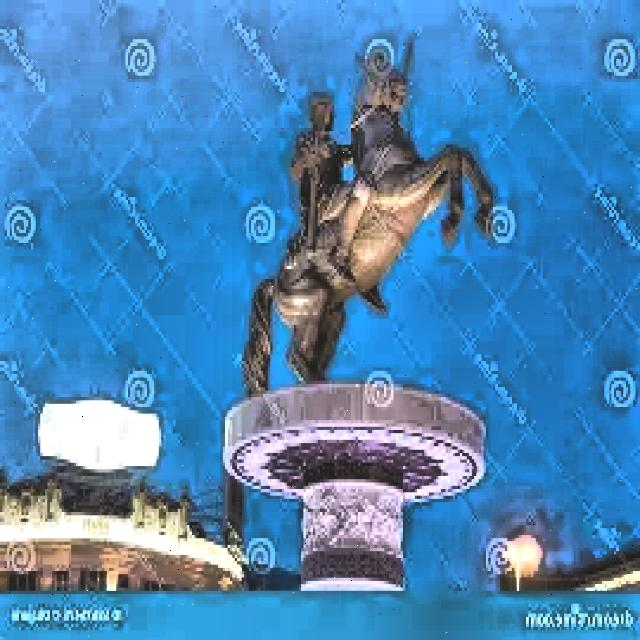alexander the great monument: (212, 28, 506, 616)
